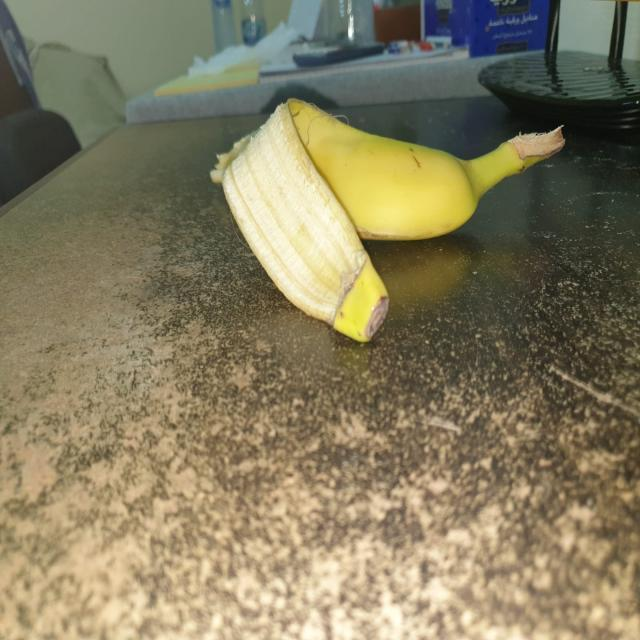banana-peel: (209, 99, 390, 343)
